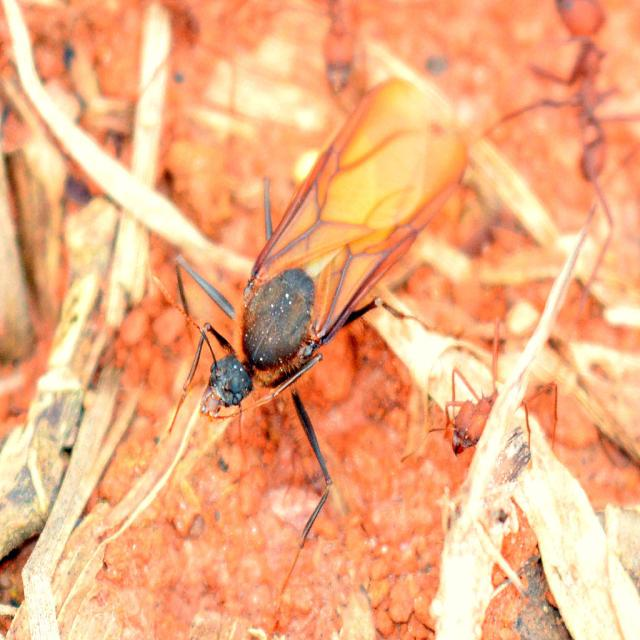Alive-Male-Alate: (168, 77, 470, 628)
